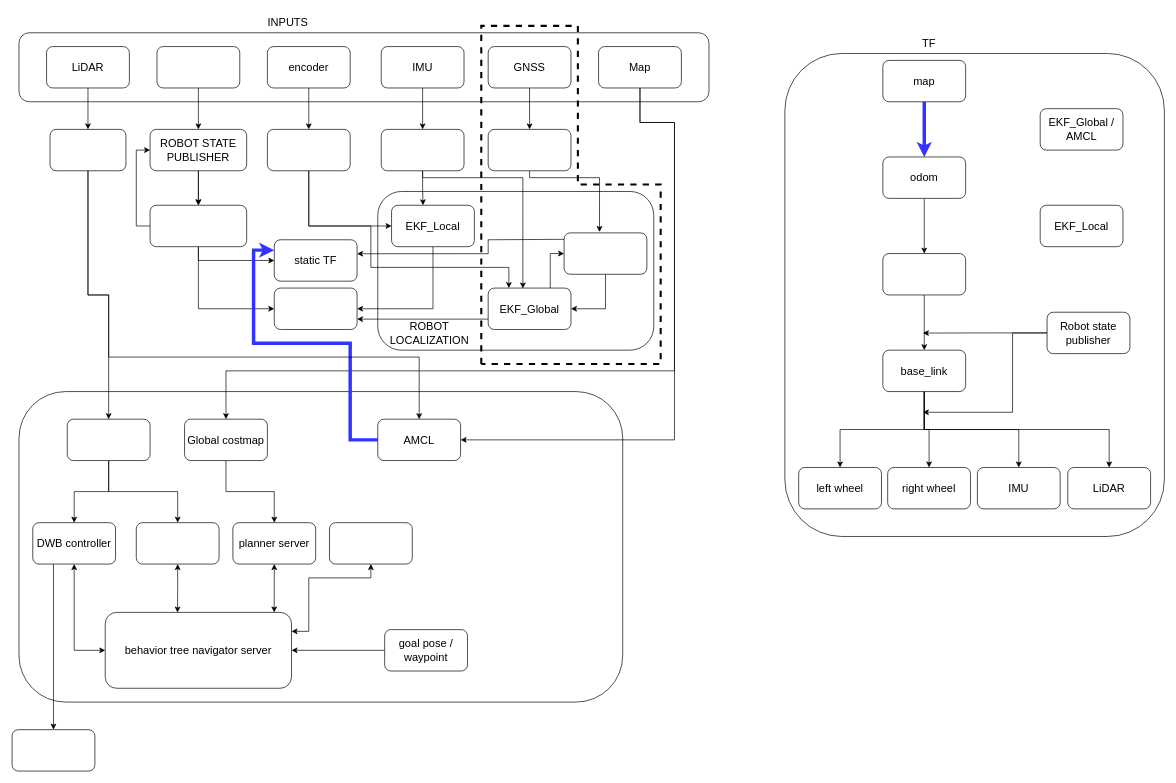
Some shapes in this 1176 by 783 pixel diagram are drawn without their labels. Each missing label, with the centre of its shape:
base_footprint: point (924, 274)
behavior server: point (177, 543)
cmd_vel: point (53, 750)
custom controller node: point (308, 150)
dynamic TF: point (315, 308)
IMU publisher: point (422, 150)
JOINT STATE PUBLISHER: point (198, 226)
Local costmap: point (108, 439)
navsat transform node: point (605, 253)
nmea navsat driver: point (529, 150)
Recovery sever: point (370, 543)
sllidar_ros2: point (87, 150)
URDF: point (198, 67)
